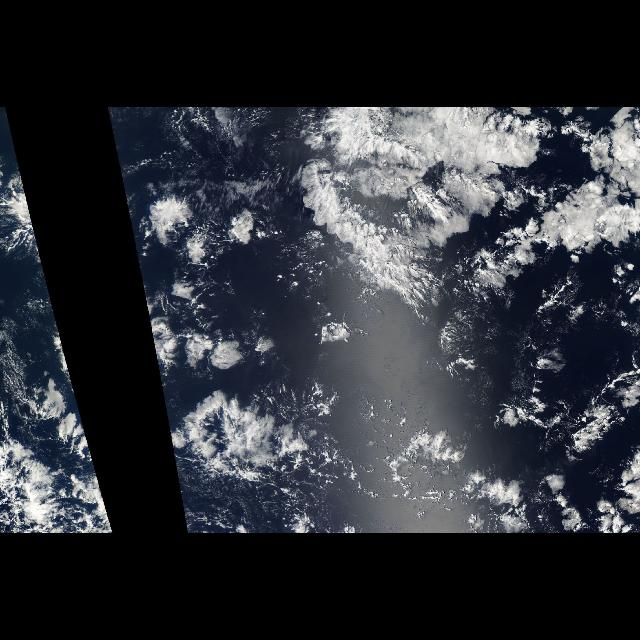Flower: (143, 145, 541, 369)
Gravel: (168, 371, 484, 524)
